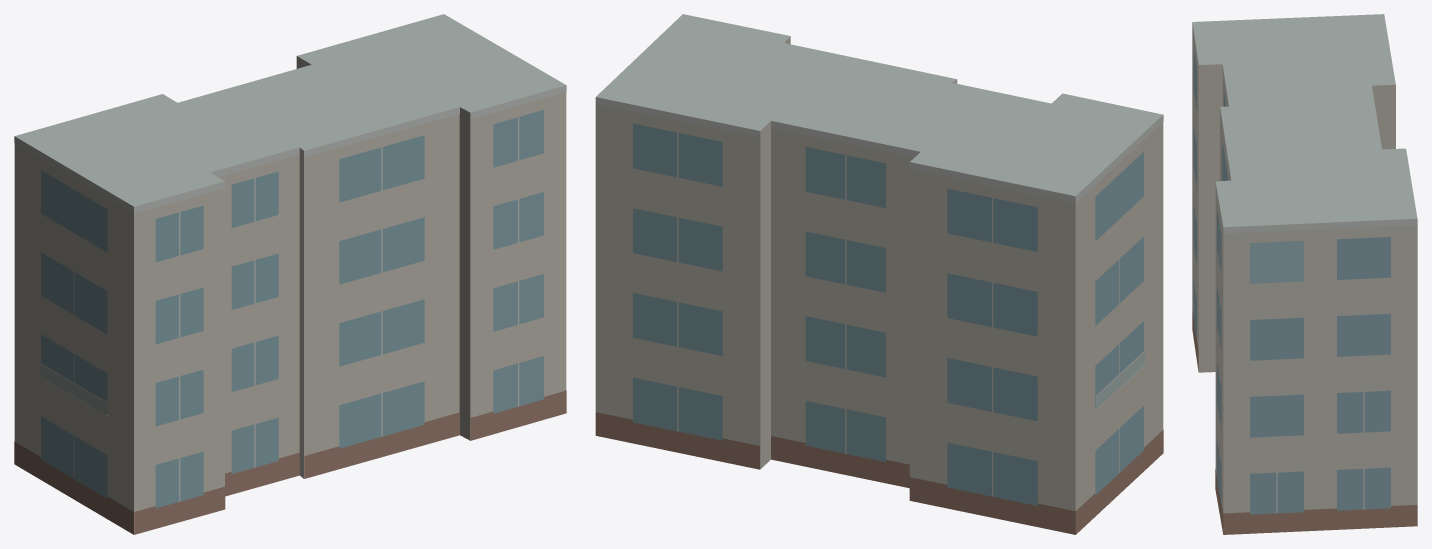
Rendered from survey-upis-32759667.glb.
3 views of the same model, side by side, from view 1: azimuth 30°, elevation 25°; view 2: azimuth 150°, elevation 25°; view 3: azimuth 270°, elevation 25° (orthographic). The views are drawn at different scales.
Visible parts, largest first — view 1: survey-upis-32759667.tmp; view 2: survey-upis-32759667.tmp; view 3: survey-upis-32759667.tmp.
Boxes of the visible parts, box(x1,y1,x2,y2) form: survey-upis-32759667.tmp: box(14, 14, 566, 534); survey-upis-32759667.tmp: box(595, 14, 1163, 534); survey-upis-32759667.tmp: box(1192, 14, 1417, 534).
Bounding box in the file's own units: 17.56 × 11.8 × 7.84.
